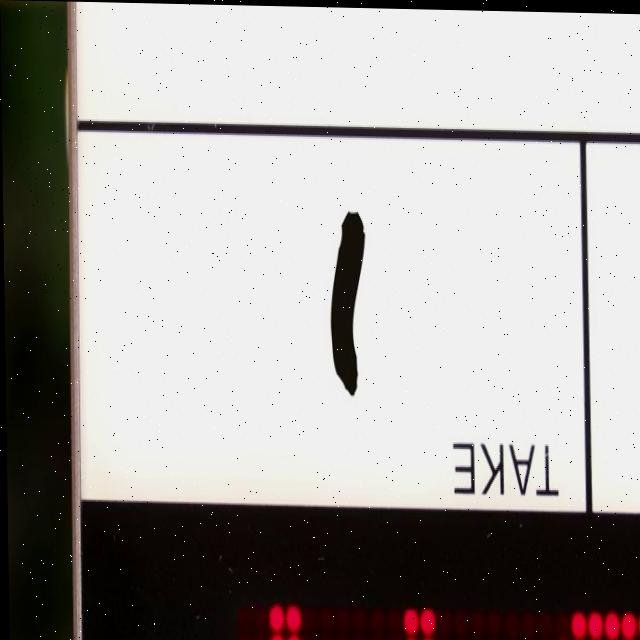Clapperboard: (58, 3, 640, 640)
